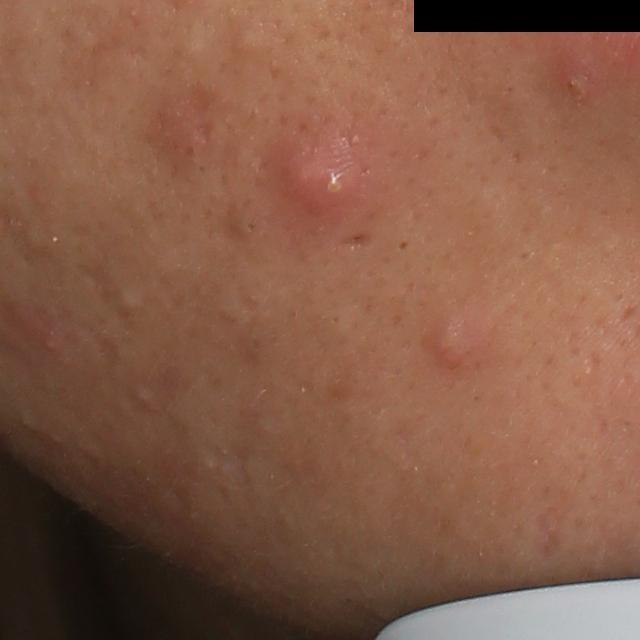atrophic_scar: (74, 247, 123, 313), (340, 231, 374, 249)
comedo: (135, 384, 156, 407), (236, 217, 260, 235), (391, 237, 412, 256)
papule: (412, 318, 485, 367)
